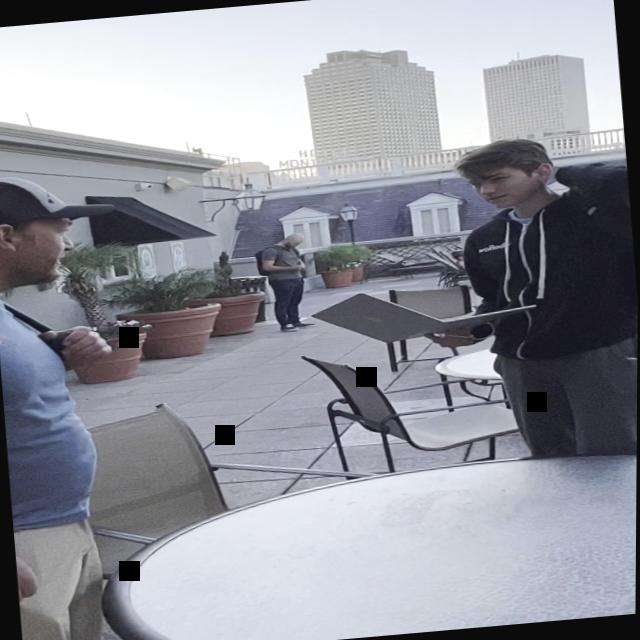NO-Mask: (12, 215, 74, 288), (472, 163, 534, 210), (287, 235, 301, 248)
